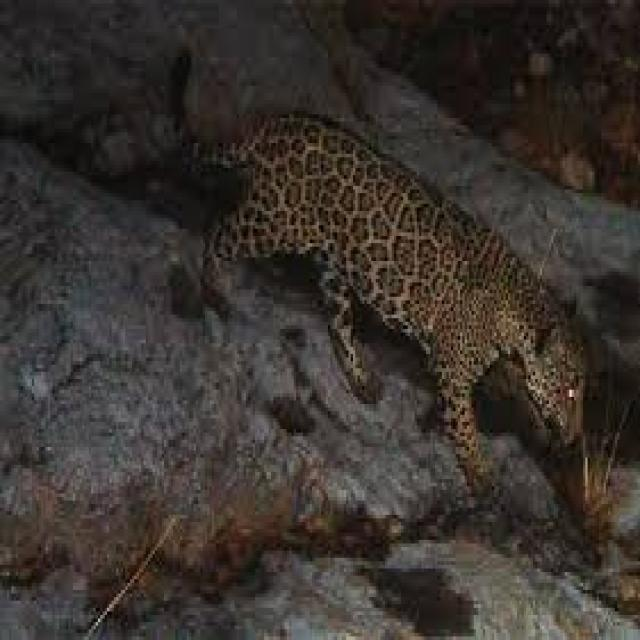Jaguar: (173, 43, 592, 497)
